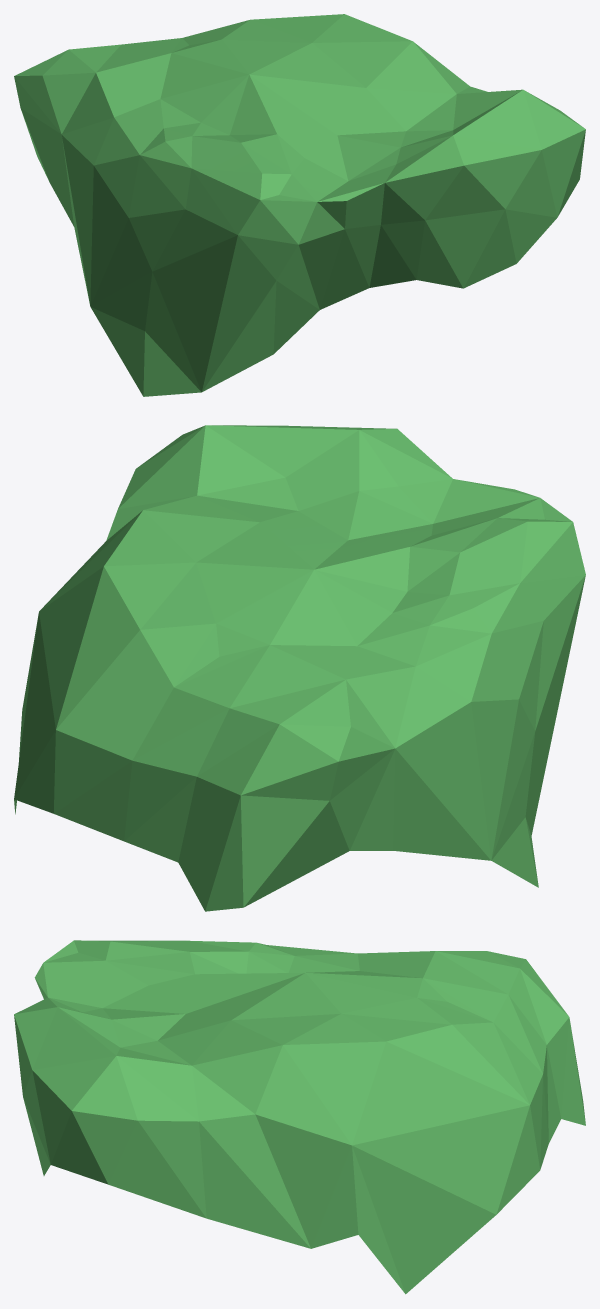
Rendered from ground_038.fbx.
The picture shows the model from 3 angles, top to bottom: view 1: azimuth 30°, elevation 25°; view 2: azimuth 150°, elevation 25°; view 3: azimuth 270°, elevation 25°; orthographic projection. The views are drawn at different scales.
Visible parts, largest first — view 1: ground.038; view 2: ground.038; view 3: ground.038.
Part boxes in pixels (x1,y1,x2,y2): ground.038: [14, 14, 585, 396]; ground.038: [14, 425, 585, 911]; ground.038: [14, 940, 585, 1294].
Bounding box in the file's own units: 1958 × 1280 × 2438.
Materials: 1 (1 with a texture image).
